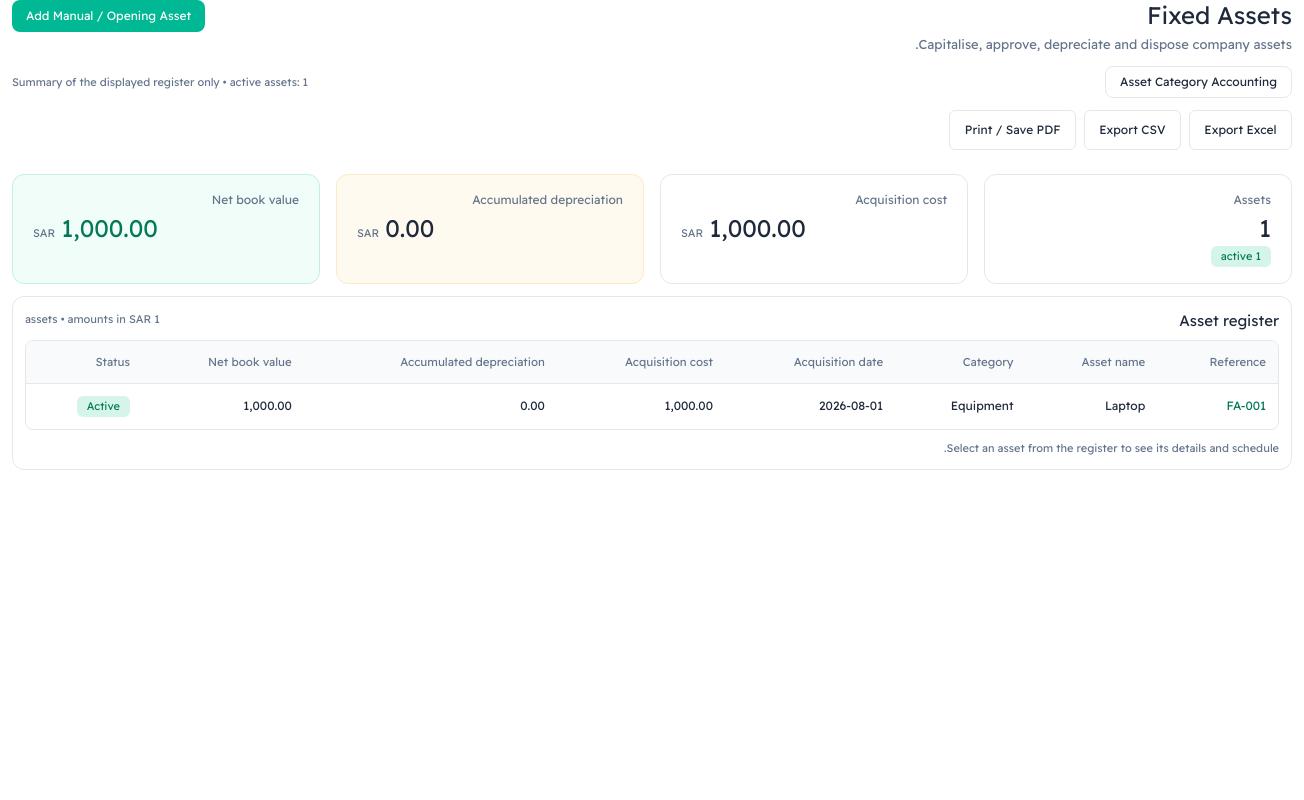
Fixed Assets functional completeness › shows disposal only for disposable active assets
Click the text "FA-001".
click(1246, 405)  # box [26, 383, 1278, 429]
(page scrolled)
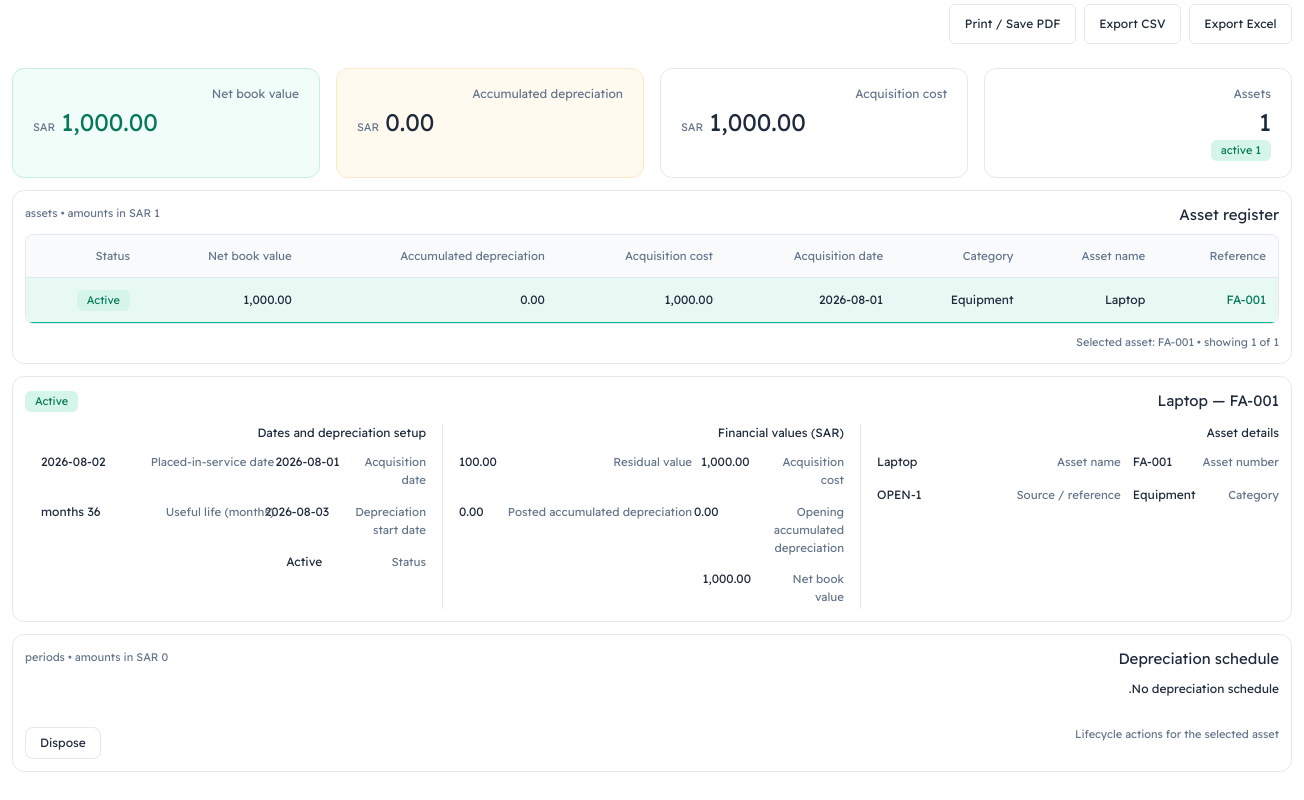
Result: the element "Asset details" is shown at [12, 376, 1292, 772]
Result: the button "Dispose" is shown at [25, 727, 101, 759]
